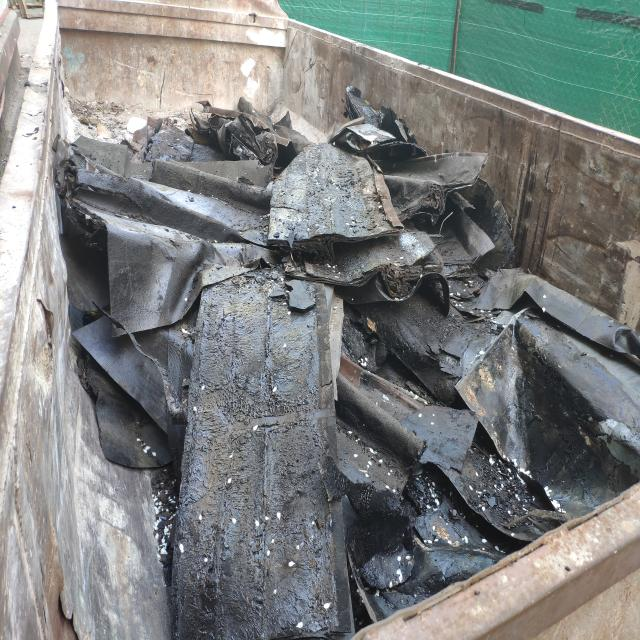entulho: (342, 275, 626, 626), (132, 262, 376, 634), (59, 127, 269, 323), (273, 128, 404, 266), (394, 150, 524, 280), (185, 92, 292, 169), (338, 86, 424, 166)
